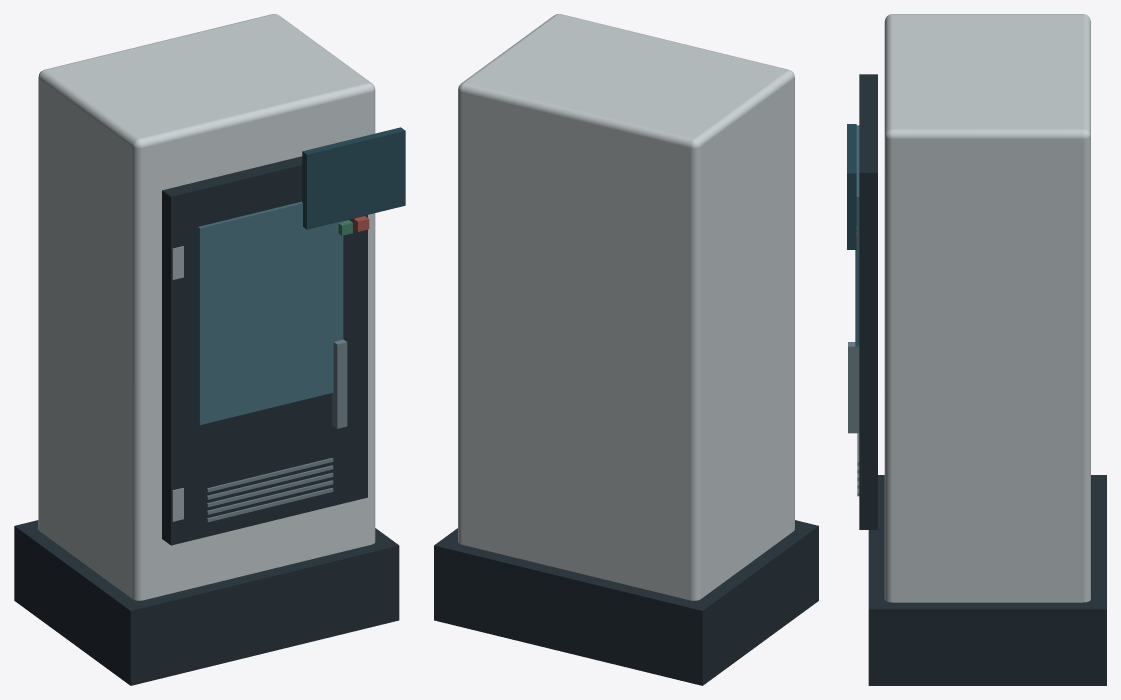
Rendered from agv-power-440.glb.
The picture shows the model from 3 angles, left to right: view 1: azimuth 30°, elevation 25°; view 2: azimuth 150°, elevation 25°; view 3: azimuth 270°, elevation 25°; orthographic projection. The views are drawn at different scales.
Bounding box in the file's own units: 0.6 × 1.14 × 0.491.
